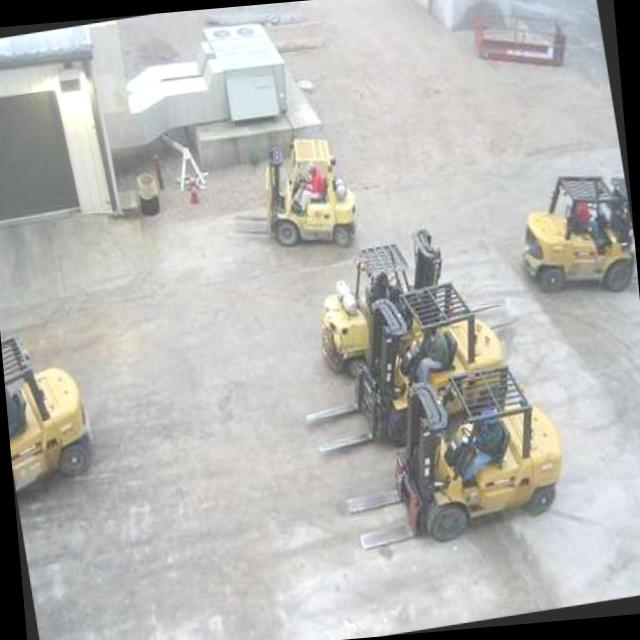driver: (450, 401, 511, 484), (566, 182, 614, 256), (289, 158, 332, 224), (410, 316, 452, 377)
forklift: (327, 354, 576, 556), (285, 274, 514, 458), (302, 213, 515, 380), (219, 128, 363, 264), (508, 160, 639, 308), (0, 324, 99, 490)
